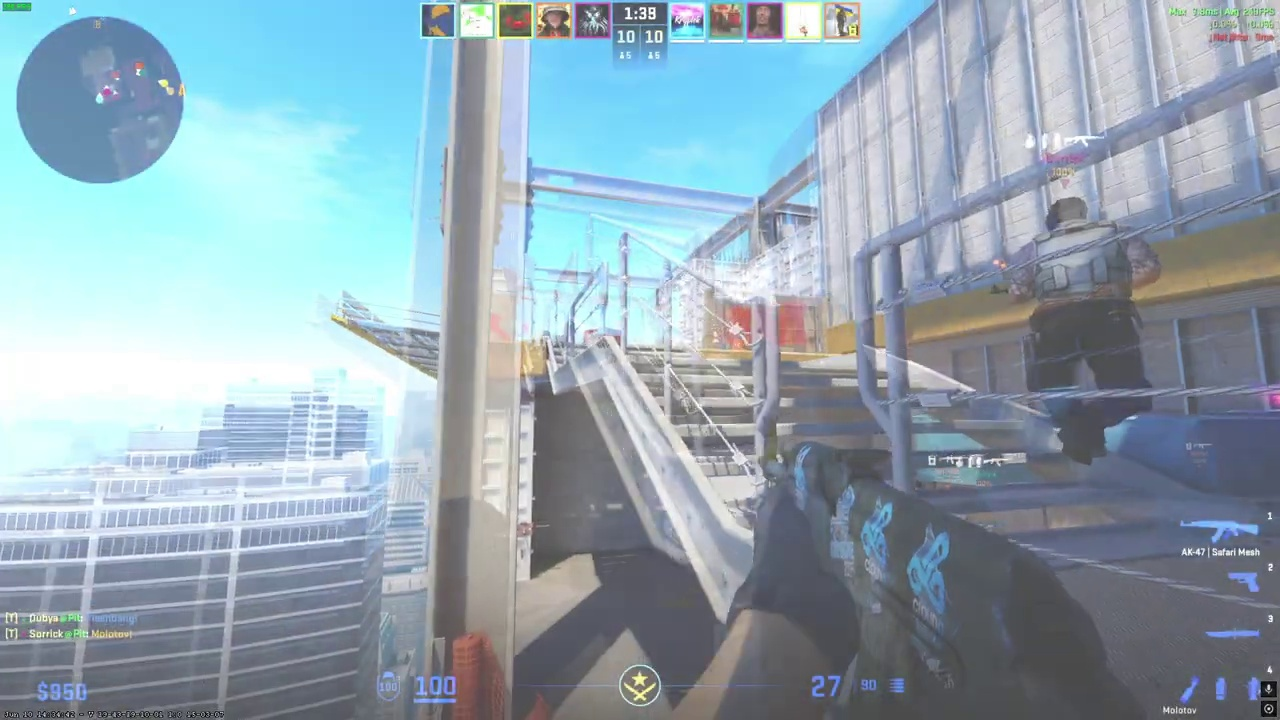Terrorist: (1010, 197, 1160, 465)
